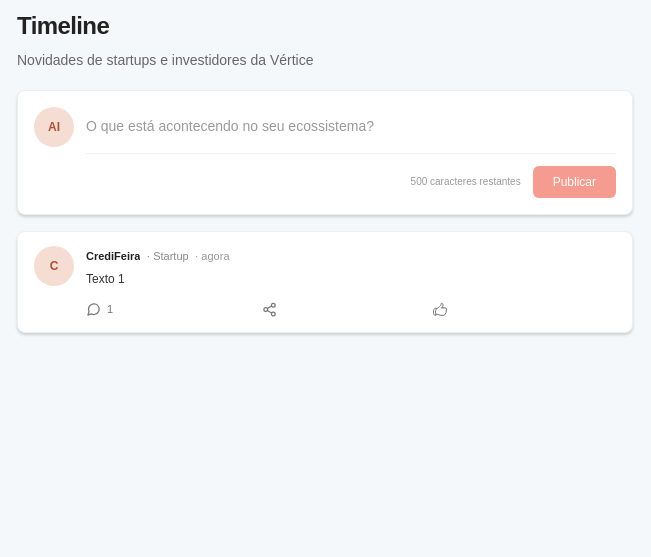
interações › abre os comentários, comenta e o comentário leva ao perfil do autor
Click the button named "Comentar (1 comentários)" at (100, 310), box [78, 295, 121, 324]
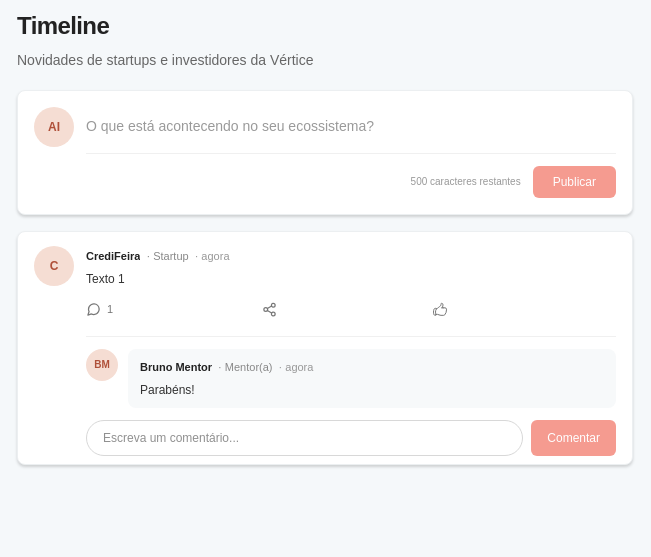
Expected: the text "Parabéns!" is shown, [140, 383, 195, 397]
Type "Quero conversar" into the field labelled "Escreva um comentário" at (305, 438), box [86, 420, 523, 456]
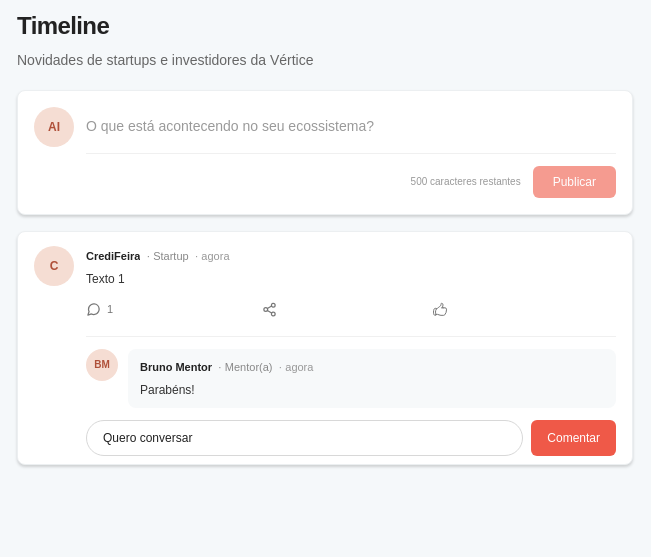
Click the button "Comentar" at (574, 438), box [531, 420, 616, 456]
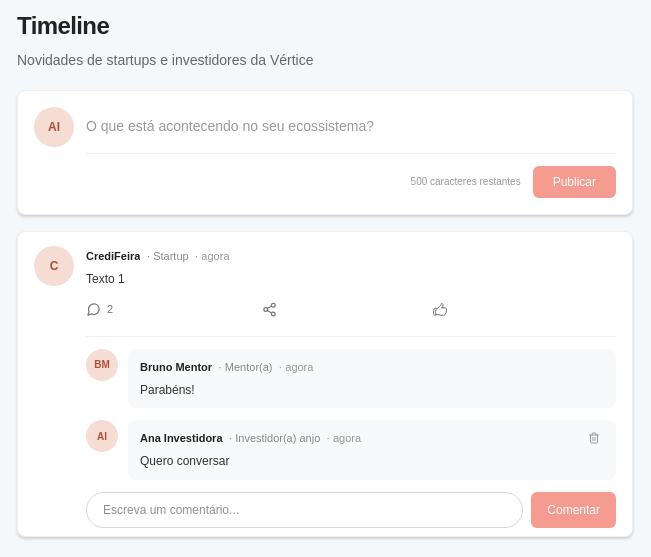
Expected: the text "Quero conversar" is shown, [140, 454, 229, 468]
Expected: the button named "Comentar (2 comentários)" is shown, [78, 295, 121, 324]
